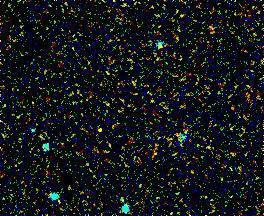star: (85, 116, 115, 146)
